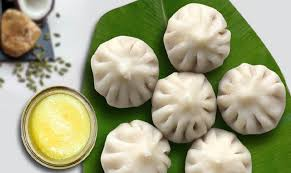modak: (156, 2, 235, 73), (216, 58, 284, 139), (92, 36, 162, 107), (150, 68, 214, 138), (100, 116, 172, 173), (183, 131, 256, 173)
